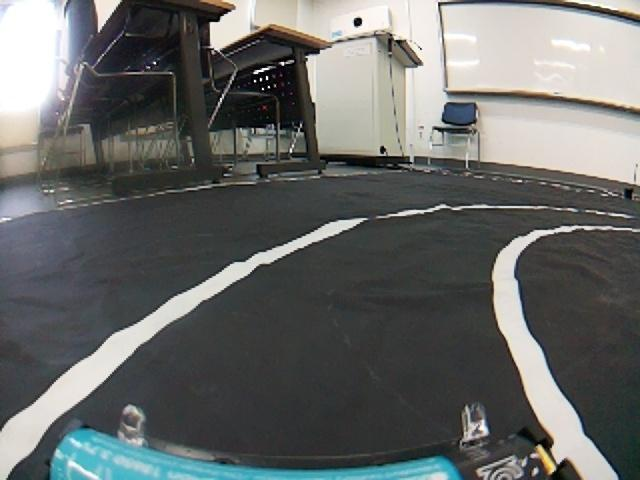right: (4, 191, 632, 479)
